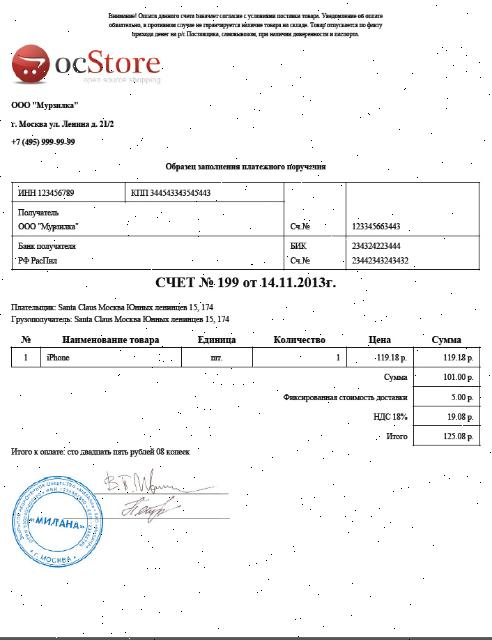stamp: (12, 476, 104, 568)
